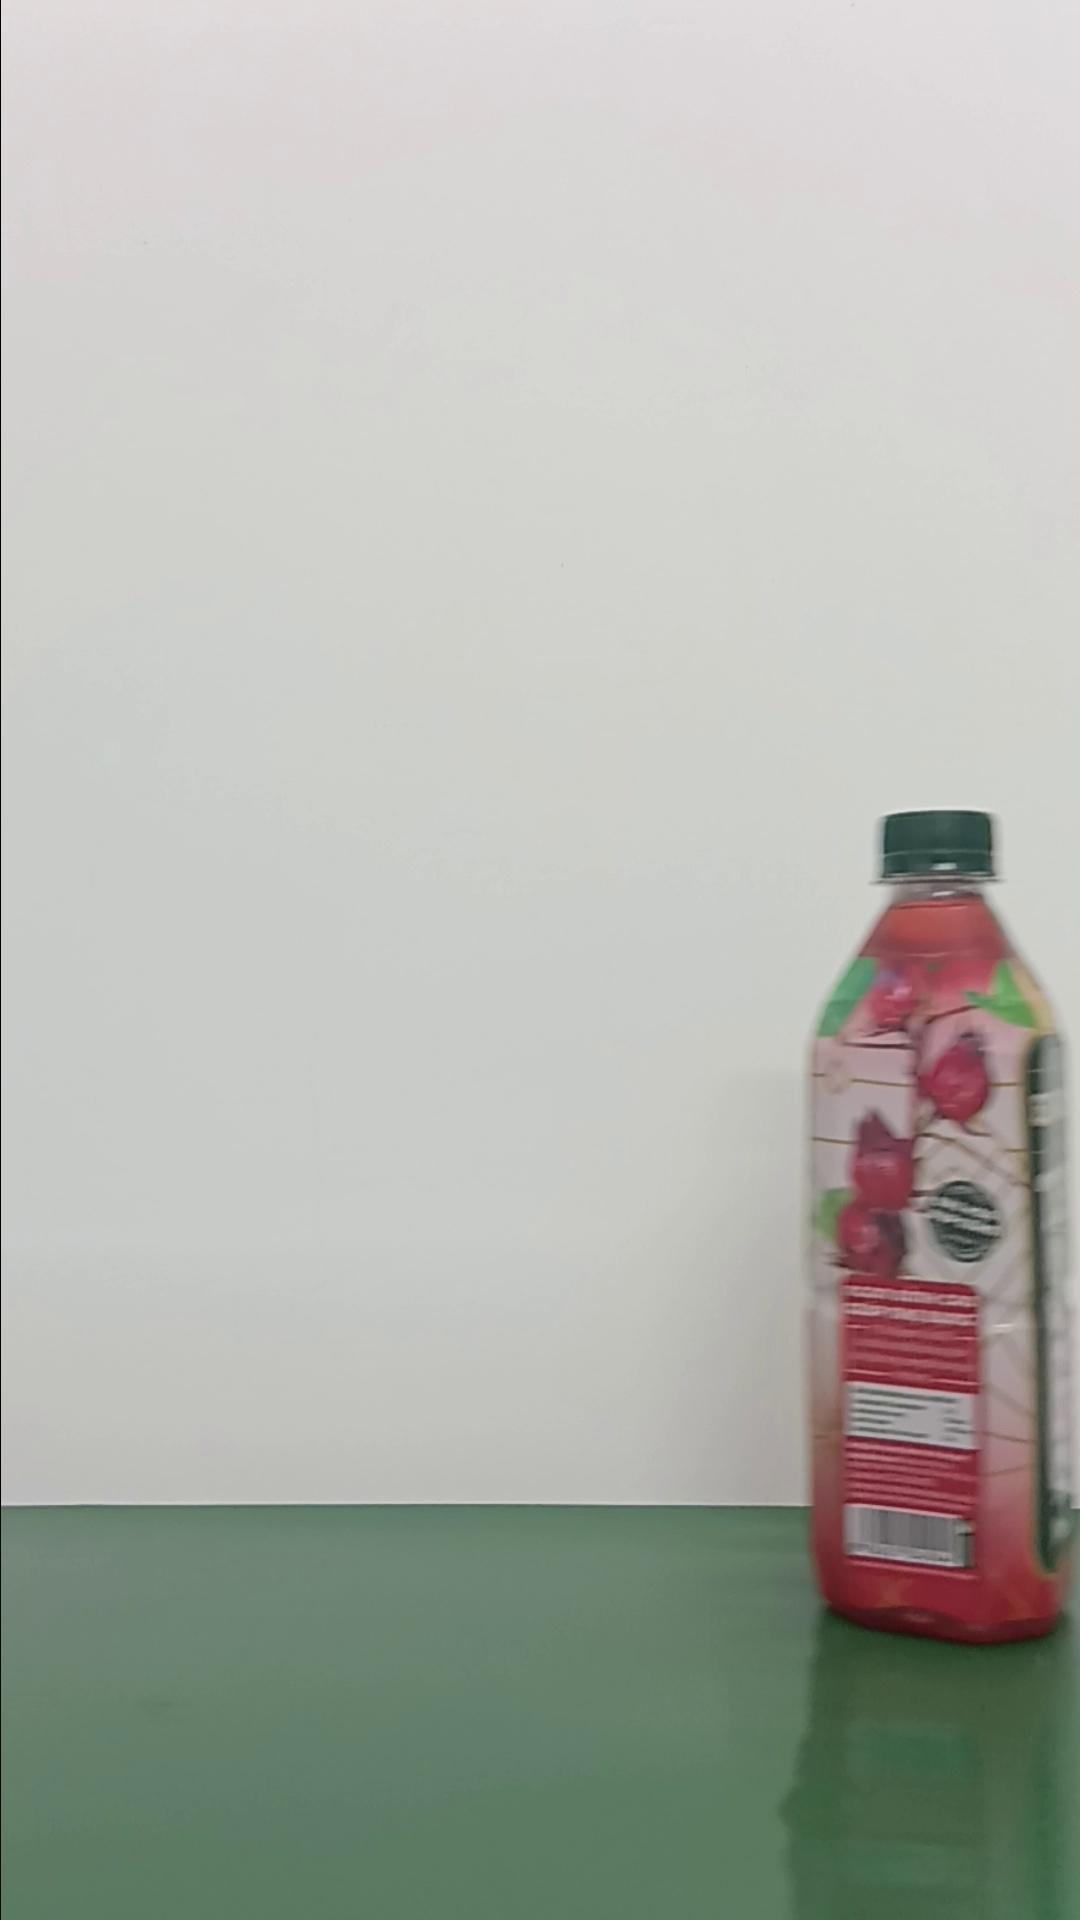khong loi: (798, 804, 1073, 1644)
